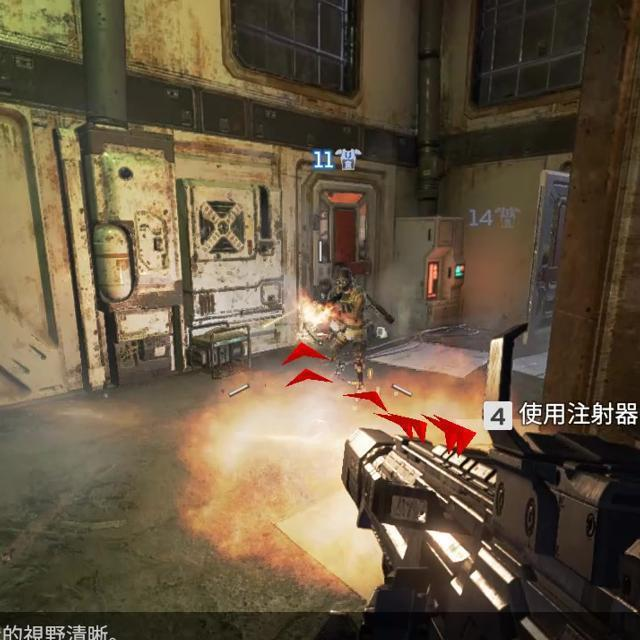avatar: (323, 268, 370, 388)
